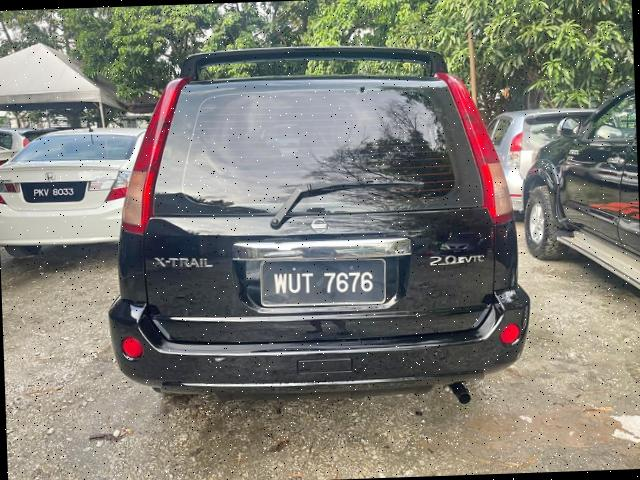License_Plate: (266, 260, 382, 308), (24, 182, 84, 207)
car: (104, 36, 538, 424)
